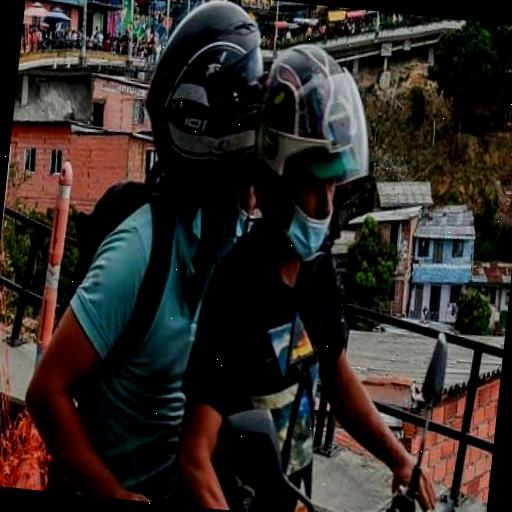helmet: (211, 11, 492, 512)
